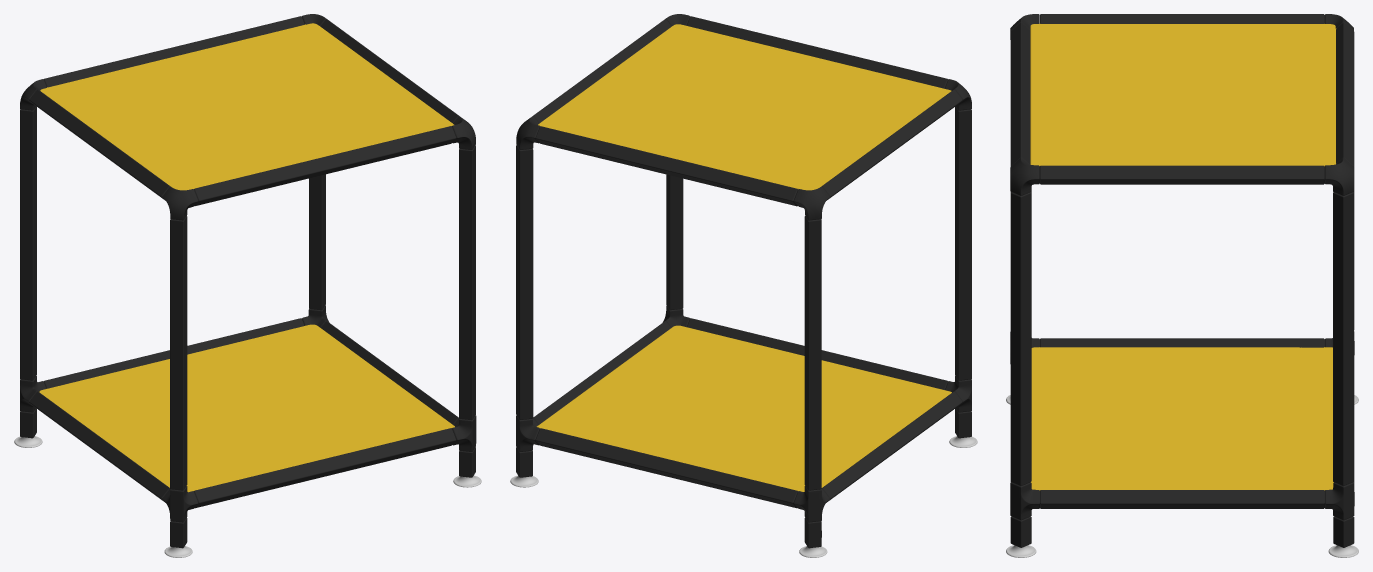
The picture shows the model from 3 angles, left to right: view 1: azimuth 30°, elevation 25°; view 2: azimuth 150°, elevation 25°; view 3: azimuth 270°, elevation 25°; orthographic projection. The views are drawn at different scales.
Visible parts, largest first — view 1: 420x374x420; view 2: 420x374x420; view 3: 420x374x420.
Part boxes in pixels (bbox=[...]): 420x374x420: bbox=[14, 14, 481, 557]; 420x374x420: bbox=[510, 14, 977, 557]; 420x374x420: bbox=[1006, 14, 1358, 557].
Size of the model in its own units: 0.5099 by 0.5593 by 0.4632.
